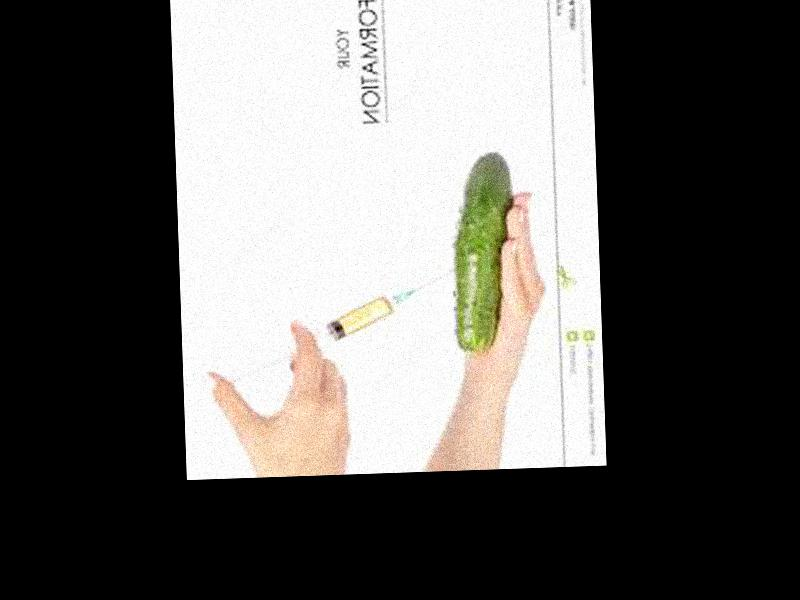Cucumber: (450, 152, 516, 353)
